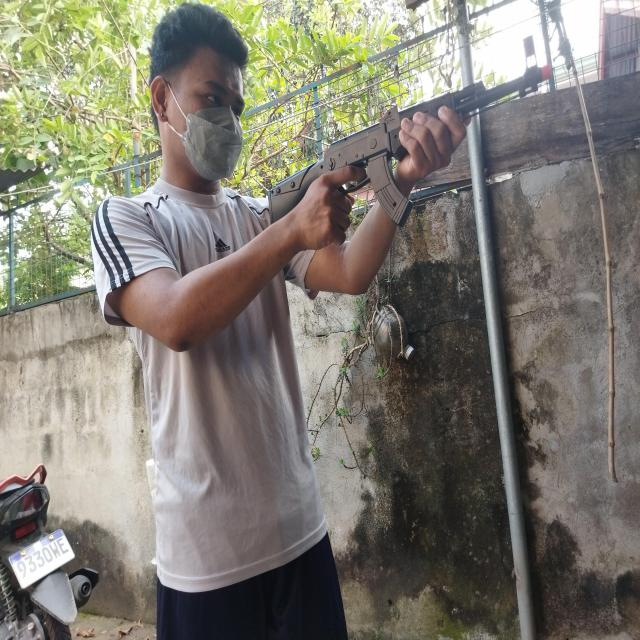rifle: (268, 35, 553, 230)
